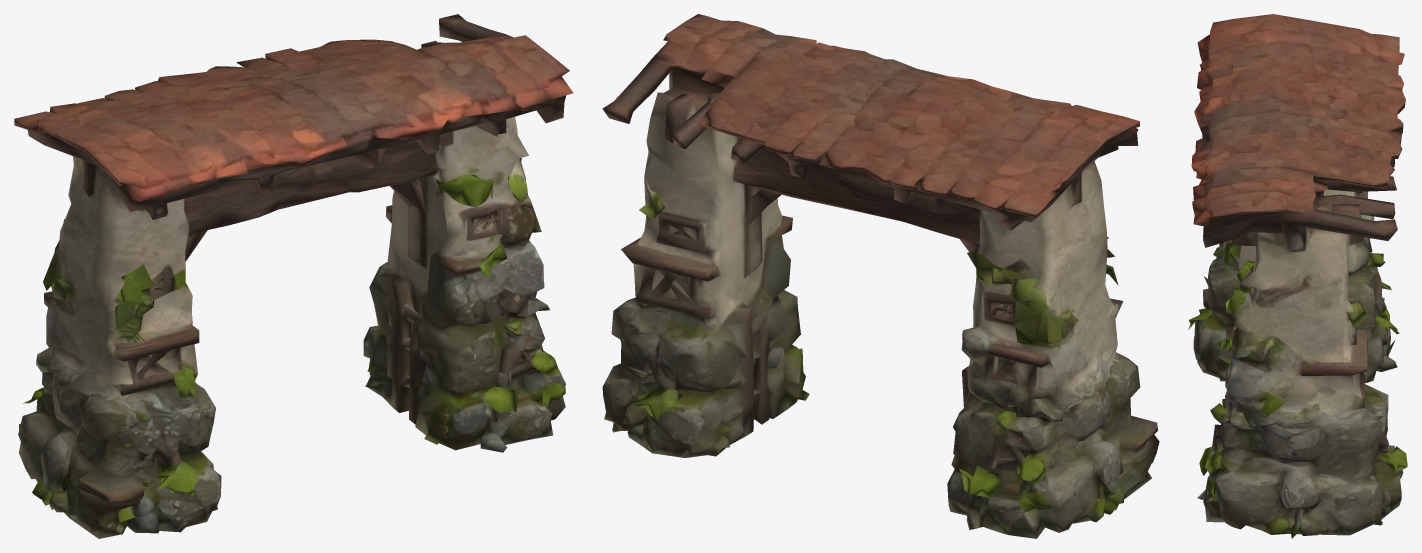
Rendered from tripo_arch.glb.
3 views of the same model, side by side, from view 1: azimuth 30°, elevation 25°; view 2: azimuth 150°, elevation 25°; view 3: azimuth 270°, elevation 25° (orthographic). The views are drawn at different scales.
Parts seen in each view (by area): view 1: tripo_node_2c9b0d72-b84e-4329-b781-da9f1c35bbb3; view 2: tripo_node_2c9b0d72-b84e-4329-b781-da9f1c35bbb3; view 3: tripo_node_2c9b0d72-b84e-4329-b781-da9f1c35bbb3.
Boxes of the visible parts, left/top/right/bottom form: tripo_node_2c9b0d72-b84e-4329-b781-da9f1c35bbb3: left=14, top=14, right=573, bottom=538; tripo_node_2c9b0d72-b84e-4329-b781-da9f1c35bbb3: left=602, top=14, right=1159, bottom=538; tripo_node_2c9b0d72-b84e-4329-b781-da9f1c35bbb3: left=1188, top=14, right=1407, bottom=538.
Size of the model in its own units: 1 by 0.7123 by 0.4369.
Materials: 1 (1 with a texture image).
